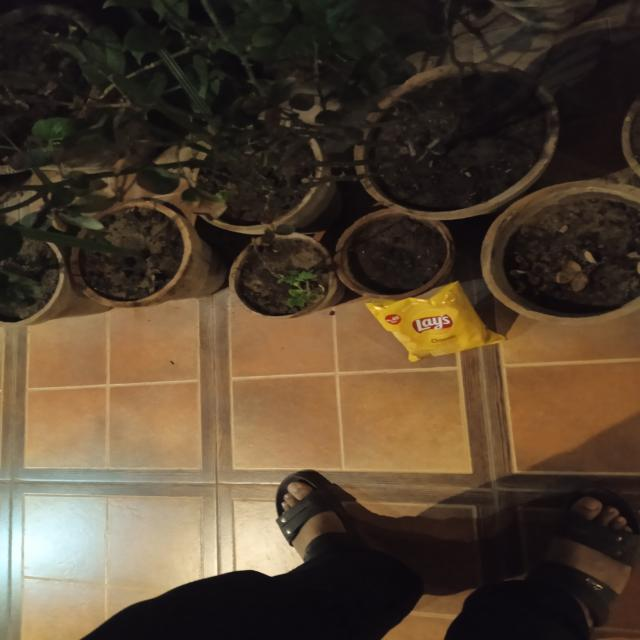Plastic: (365, 284, 507, 362)
